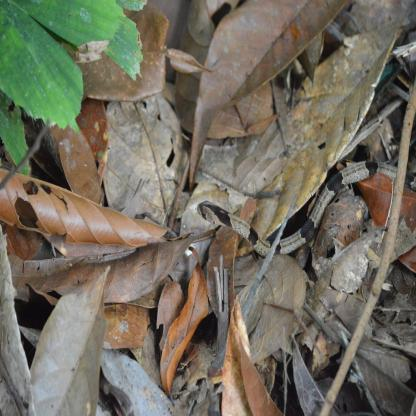Snake: (196, 196, 310, 268)
